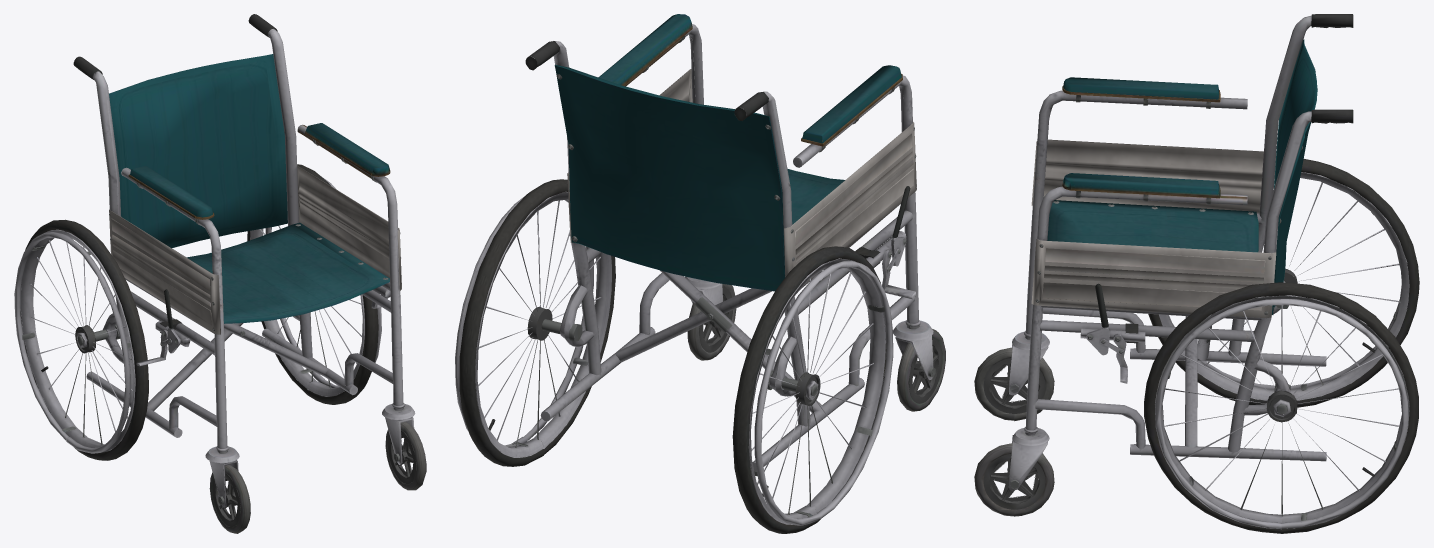
File: wheelchair.glb
The picture shows the model from 3 angles, left to right: view 1: azimuth 30°, elevation 25°; view 2: azimuth 150°, elevation 25°; view 3: azimuth 270°, elevation 25°; orthographic projection. The views are drawn at different scales.
Visible parts, largest first — view 1: wheelchair_01; view 2: wheelchair_01; view 3: wheelchair_01.
Part boxes in pixels (x1,y1,x2,y2): wheelchair_01: [14, 14, 426, 533]; wheelchair_01: [455, 14, 945, 533]; wheelchair_01: [974, 14, 1419, 533].
Size of the model in its own units: 0.8242 by 1.1 by 1.09.
1 material, 1 textured.
